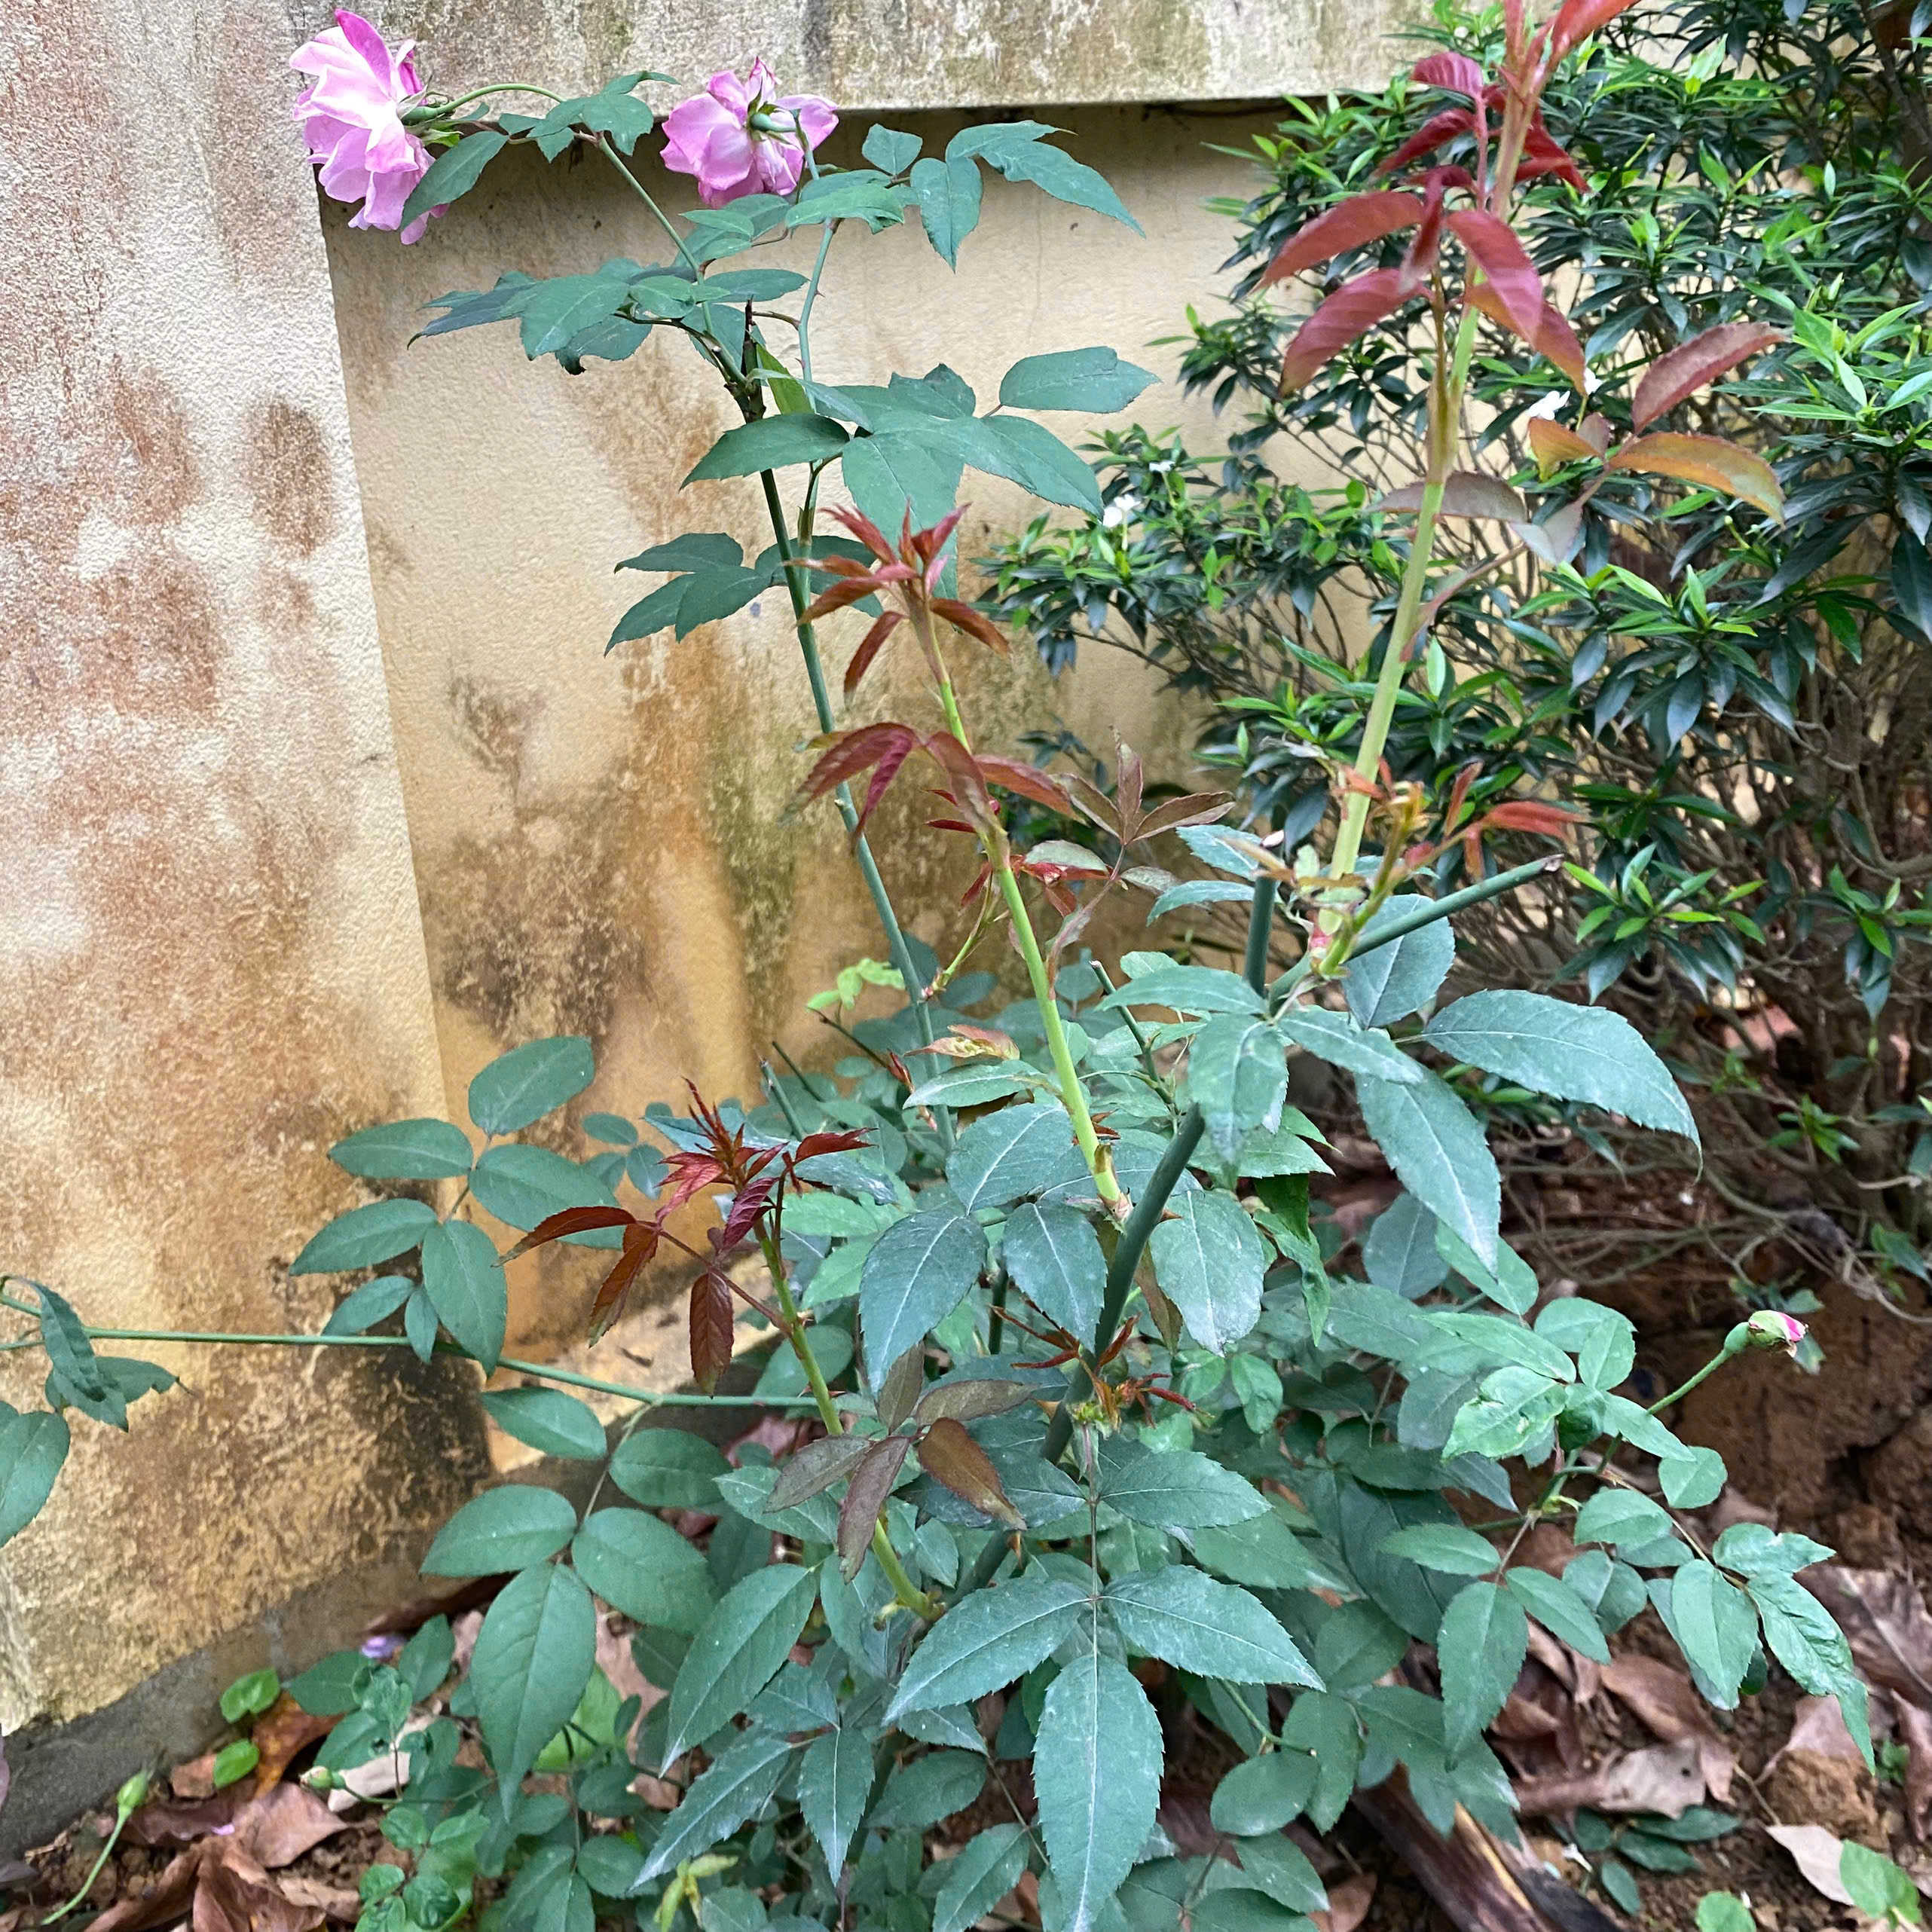hoa_hong_phan: (203, 39, 1453, 1856)
